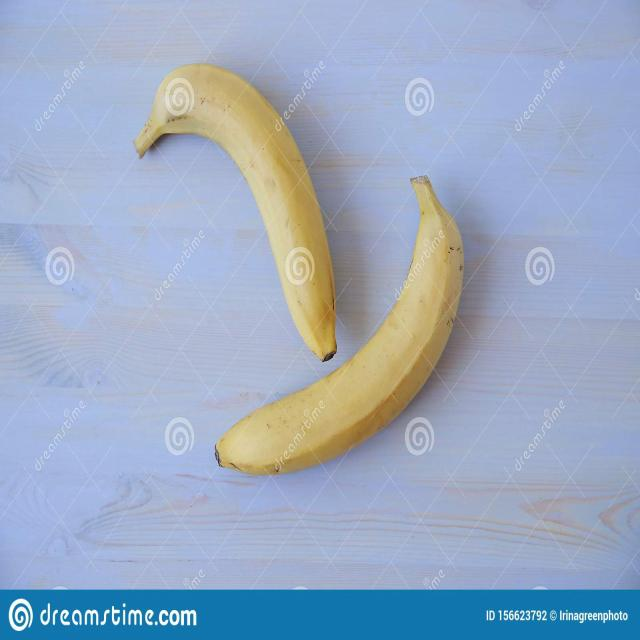Banana: (208, 170, 467, 481), (122, 57, 338, 360)
